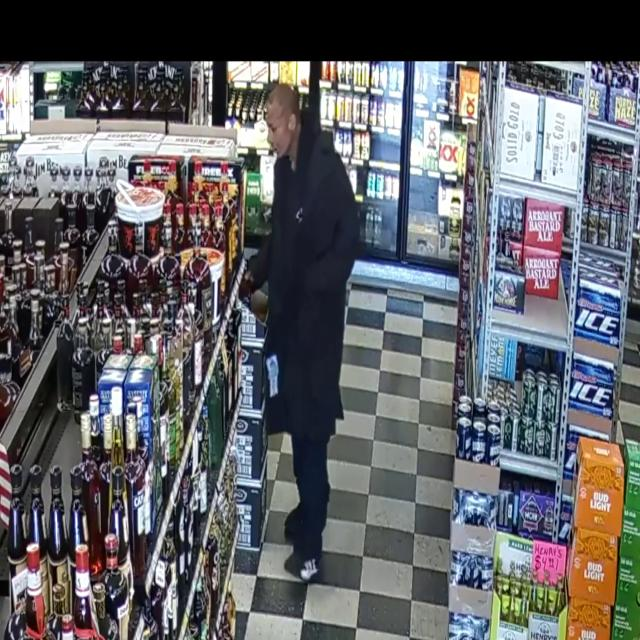normal: (240, 67, 396, 579)
